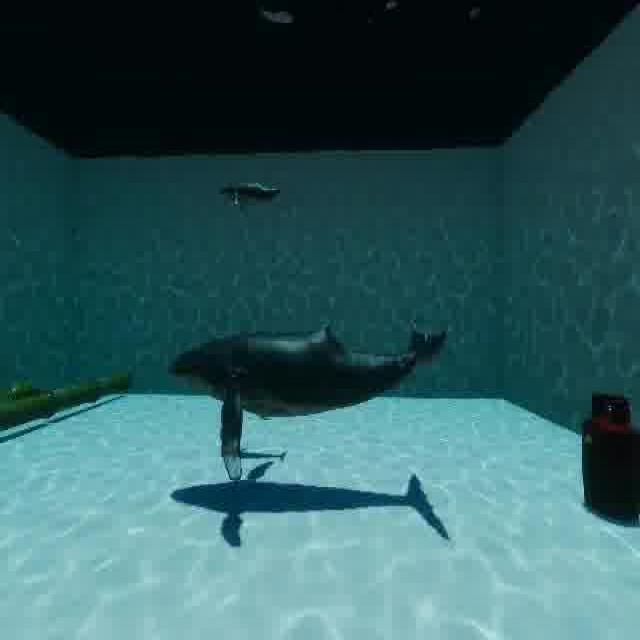Cylinder: (577, 370, 640, 530)
Pipe: (0, 353, 142, 445)
Whale: (160, 313, 453, 493), (211, 170, 290, 220)
